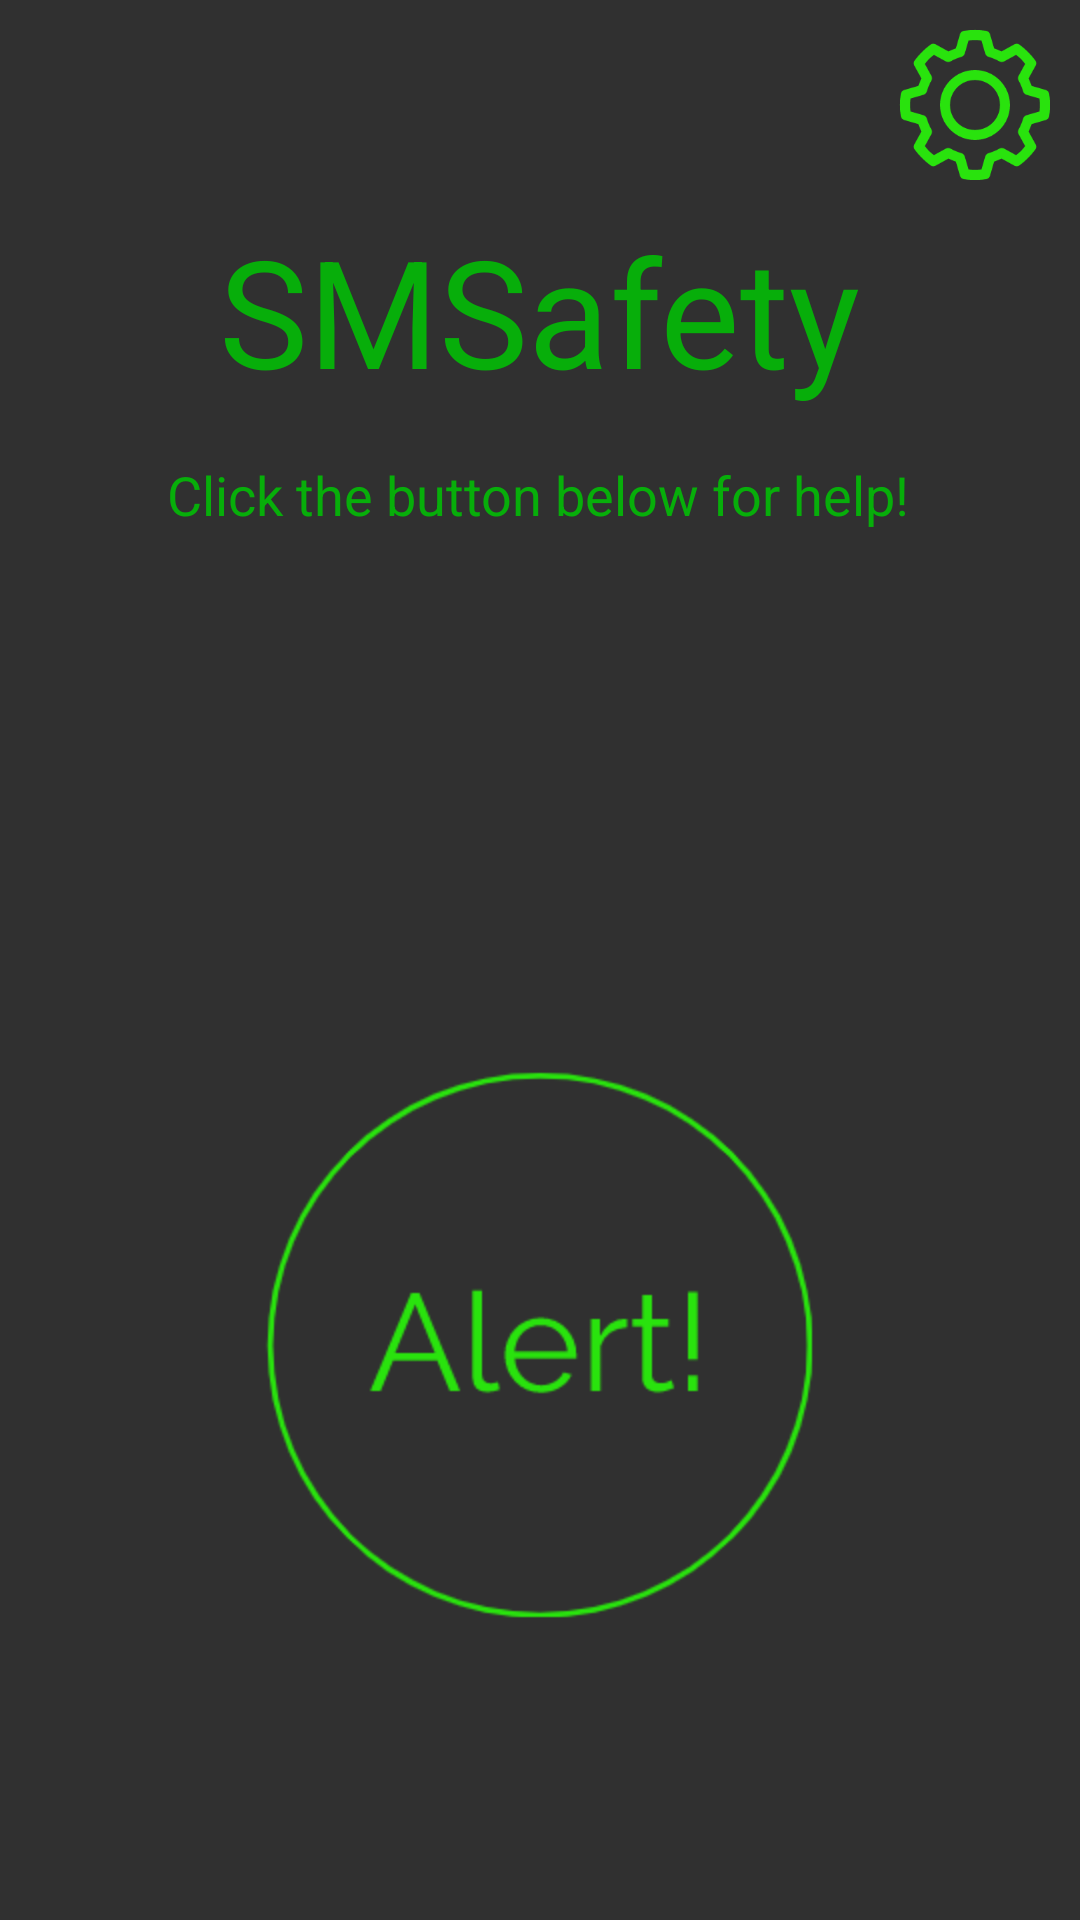

Where icons sit on this 1080 x 1920 app screen, as (x1, y1, x2, y2):
settings: (900, 30, 1050, 180)
